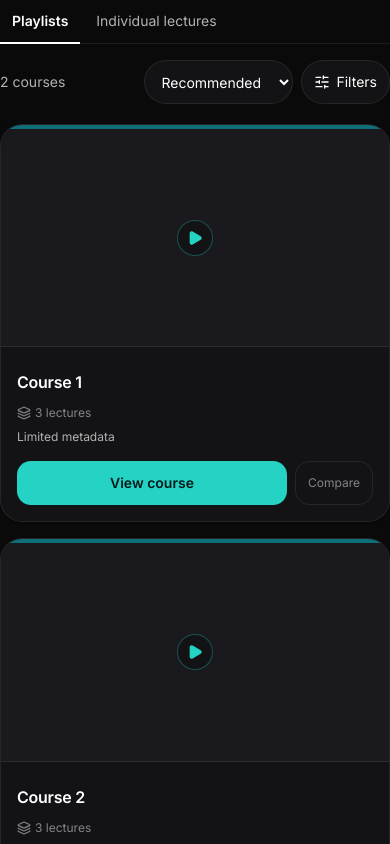
Scenario: the mobile filter drawer's Show button › still counts what the catalogue actually returned
The width and height of the screenshot is (390, 844).
Check: the text "2 courses" is shown, box [0,72,65,92]
Click the button "Filters": [346, 82] box [302,60,389,104]
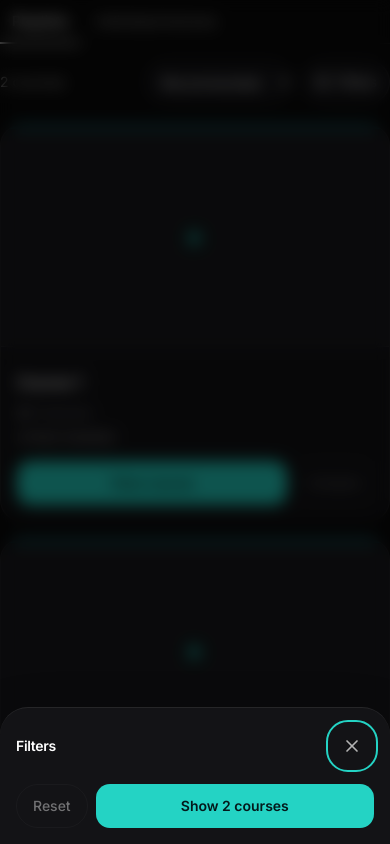
Check: the button "Show 2 courses" is shown, box [96,784,374,828]
